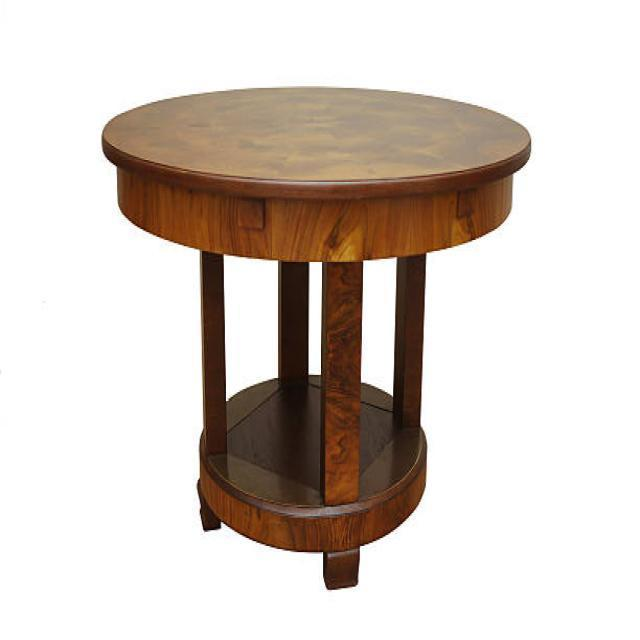table: (100, 83, 532, 590)
